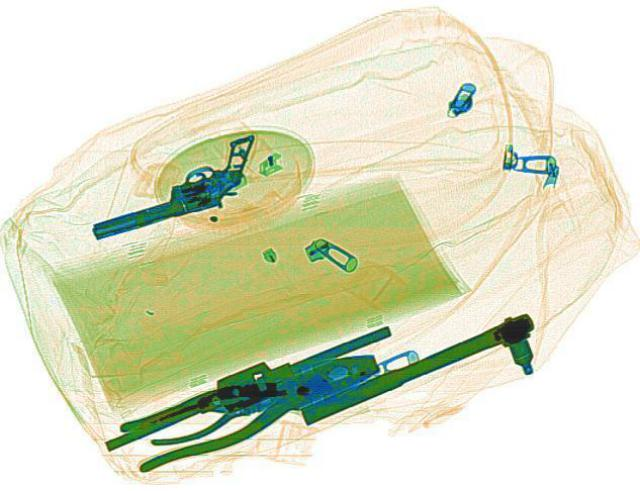Gun: (63, 131, 283, 238)
Pliers: (108, 337, 398, 473)
